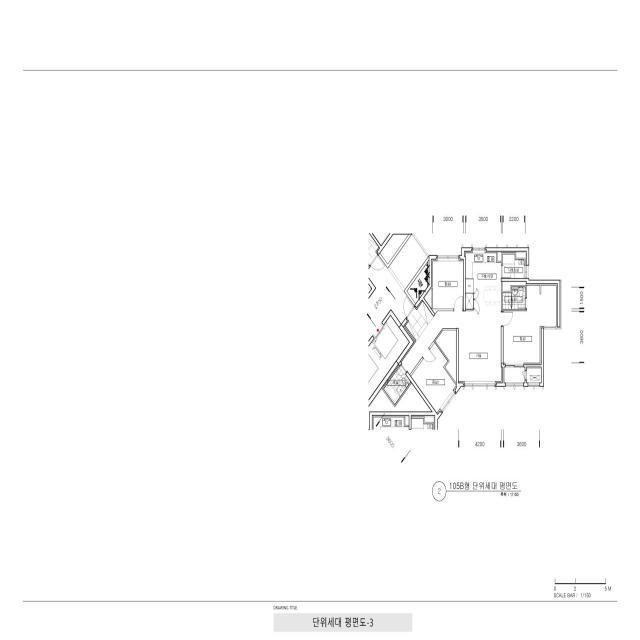space_bedroom: (503, 284, 557, 365), (411, 343, 456, 414), (432, 260, 463, 309)
space_elevator: (369, 316, 409, 373)
space_elevator_hall: (366, 234, 428, 341)
space_front: (403, 300, 434, 343)
space_kitchen: (464, 250, 501, 311)
space_living_room: (401, 311, 502, 385)
space_multipurpose_space: (503, 254, 524, 278)
space_other: (369, 383, 431, 412), (435, 330, 456, 383), (407, 260, 429, 303), (380, 234, 409, 264), (504, 367, 525, 383), (502, 282, 525, 291), (424, 287, 432, 309), (516, 252, 526, 258), (497, 252, 501, 261)
space_outdoor_room: (527, 367, 541, 383)
space_toilet: (384, 366, 411, 405), (502, 287, 525, 309)
